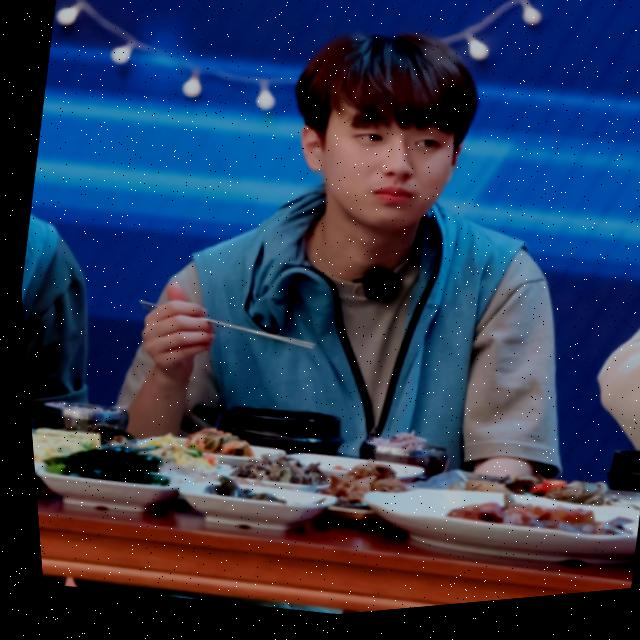eating-person: (35, 0, 640, 638)
